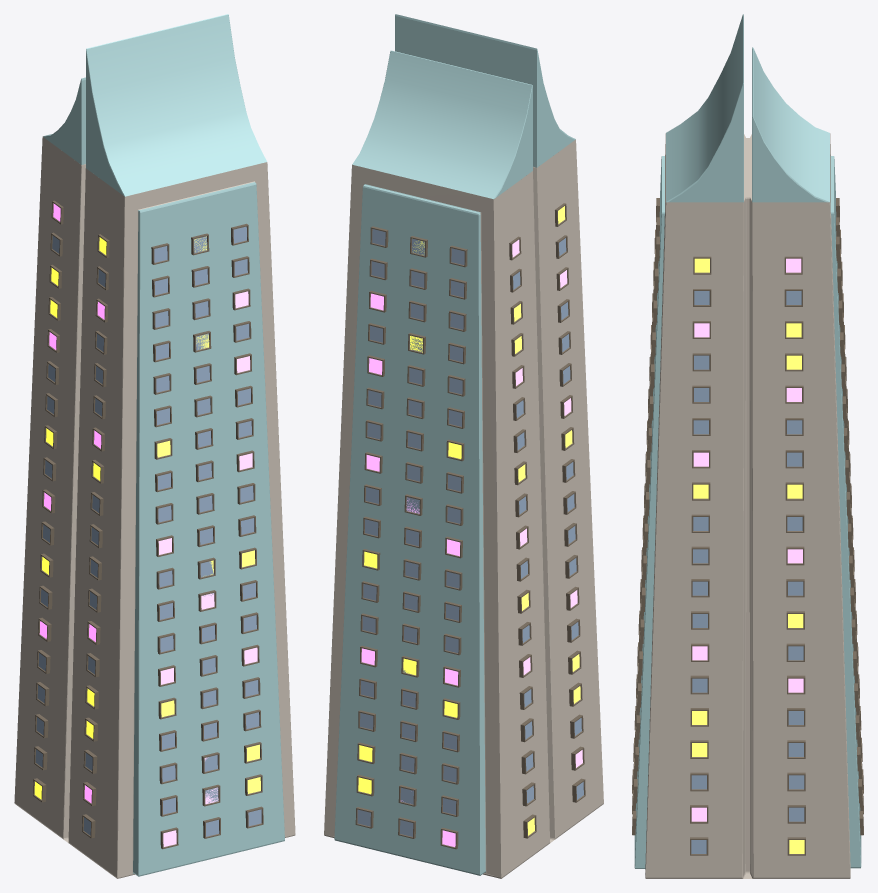
The model's file is coltejer.fbx.
3 renders of one model, left to right at view 1: azimuth 30°, elevation 25°; view 2: azimuth 150°, elevation 25°; view 3: azimuth 270°, elevation 25°, orthographic.
Parts seen in each view (by area): view 1: Cube.005; view 2: Cube.005; view 3: Cube.005.
Boxes of the visible parts, x1=… form: Cube.005: x1=14, y1=14, x2=295, y2=878; Cube.005: x1=324, y1=14, x2=603, y2=878; Cube.005: x1=632, y1=14, x2=863, y2=878.
Bounding box in the file's own units: 1153 × 4683 × 1249.
